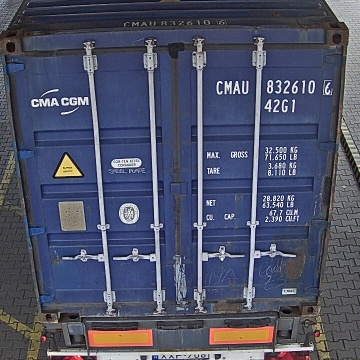serial_id: (216, 80, 332, 94)
